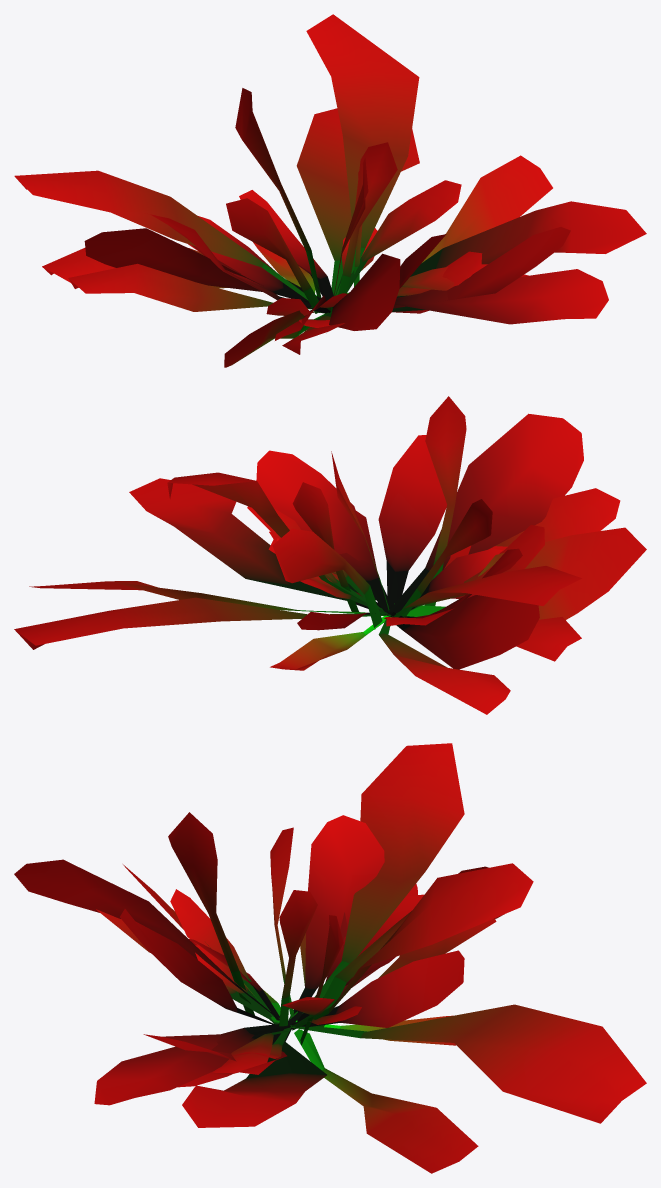
File: Leafy Dandelions_LOD0_Var2_qmBrl.fbx
3 renders of one model, top to bottom at view 1: azimuth 30°, elevation 25°; view 2: azimuth 150°, elevation 25°; view 3: azimuth 270°, elevation 25°, orthographic. The views are drawn at different scales.
Parts seen in each view (by area): view 1: _5bf1_Var2_LOD0; view 2: _5bf1_Var2_LOD0; view 3: _5bf1_Var2_LOD0.
Part boxes in pixels (x1,y1,x2,y2): _5bf1_Var2_LOD0: (14,14,646,367); _5bf1_Var2_LOD0: (14,396,646,714); _5bf1_Var2_LOD0: (14,743,646,1173).
Bounding box in the file's own units: 27.3 × 9.82 × 25.7.
